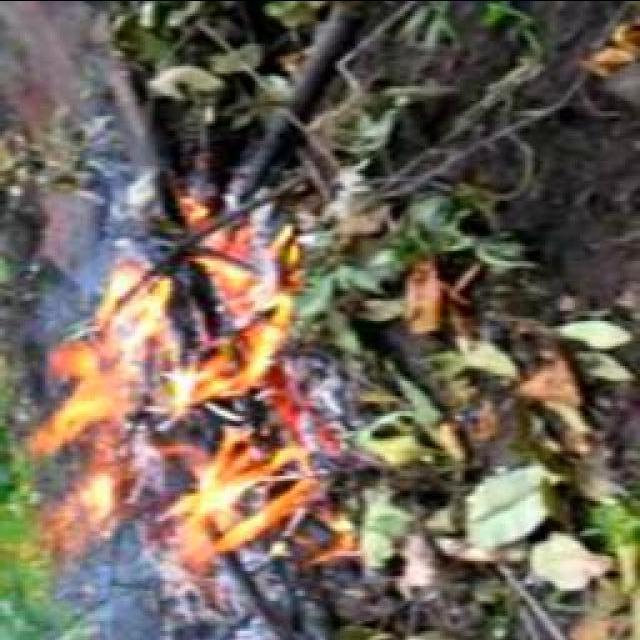Fire: (45, 220, 301, 554)
